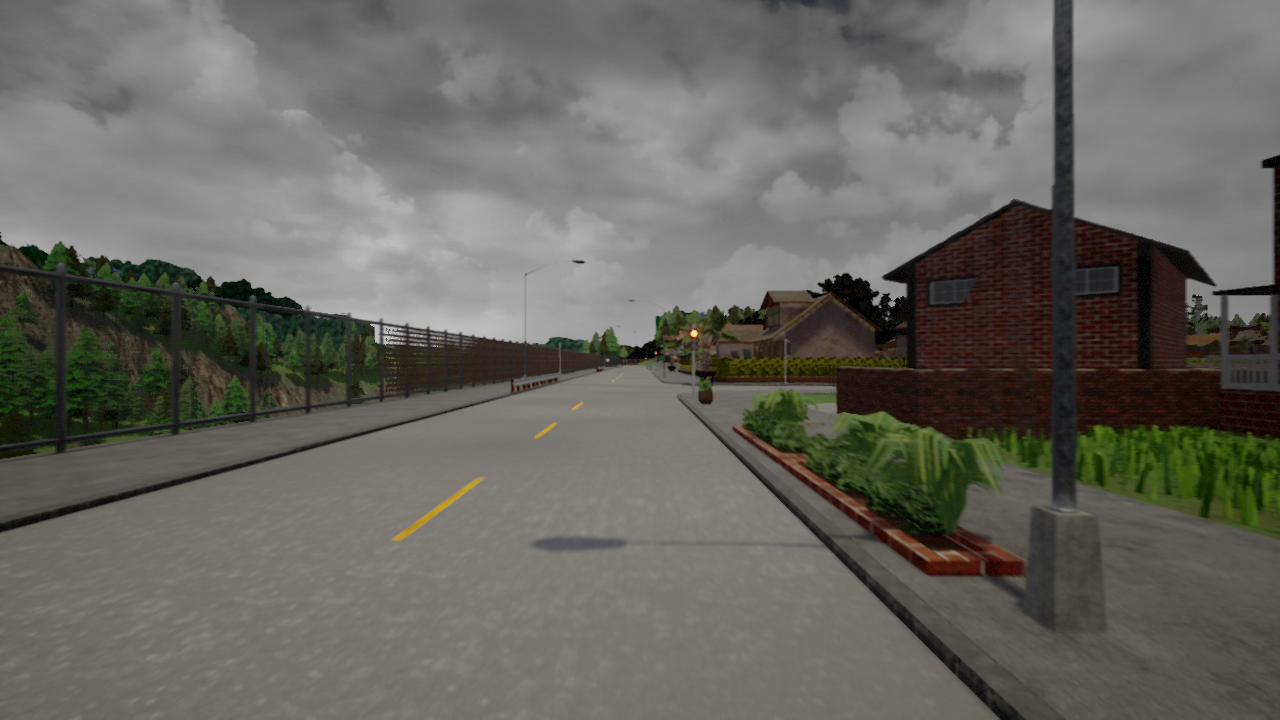red: (690, 328, 700, 352)
